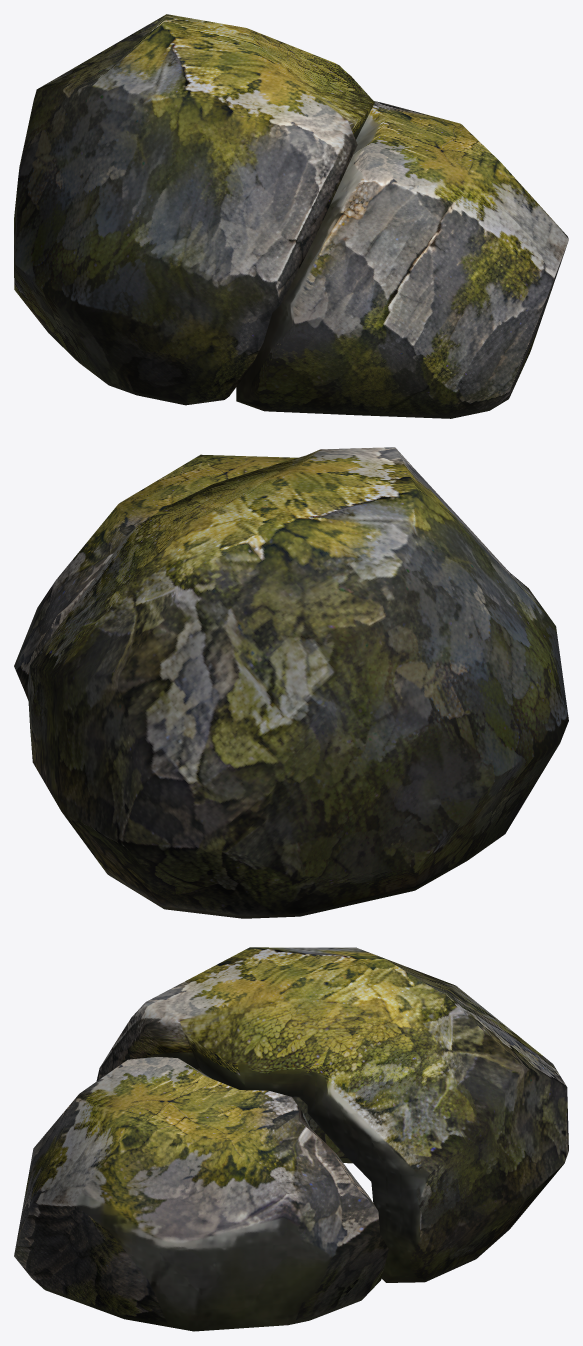
Rendered from act1_kit_v1_moss_rock.glb.
3 renders of one model, top to bottom at view 1: azimuth 30°, elevation 25°; view 2: azimuth 150°, elevation 25°; view 3: azimuth 270°, elevation 25°, orthographic. The views are drawn at different scales.
Visible parts, largest first — view 1: act1_kit_v1_moss_rock; view 2: act1_kit_v1_moss_rock; view 3: act1_kit_v1_moss_rock.
Boxes of the visible parts, x1=… form: act1_kit_v1_moss_rock: x1=14, y1=14, x2=568, y2=418; act1_kit_v1_moss_rock: x1=14, y1=447, x2=568, y2=918; act1_kit_v1_moss_rock: x1=14, y1=947, x2=568, y2=1331.
Size of the model in its own units: 0.8442 by 0.5135 by 1.
Materials: 1 (1 with a texture image).
